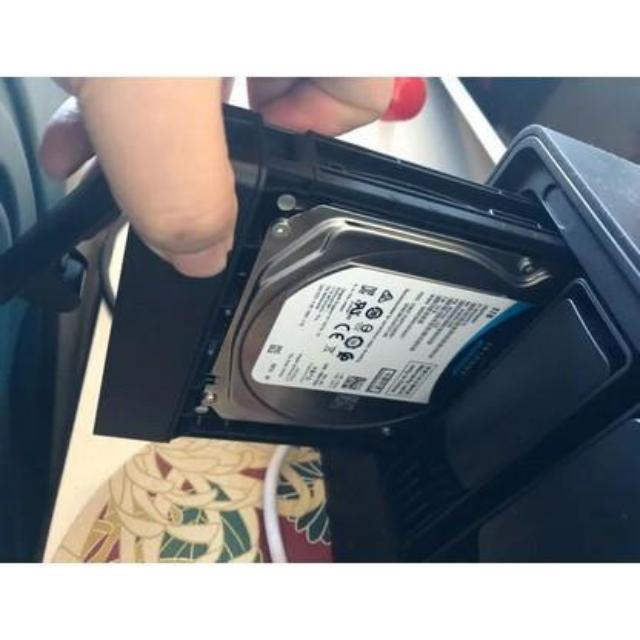DISK: (189, 185, 569, 457)
